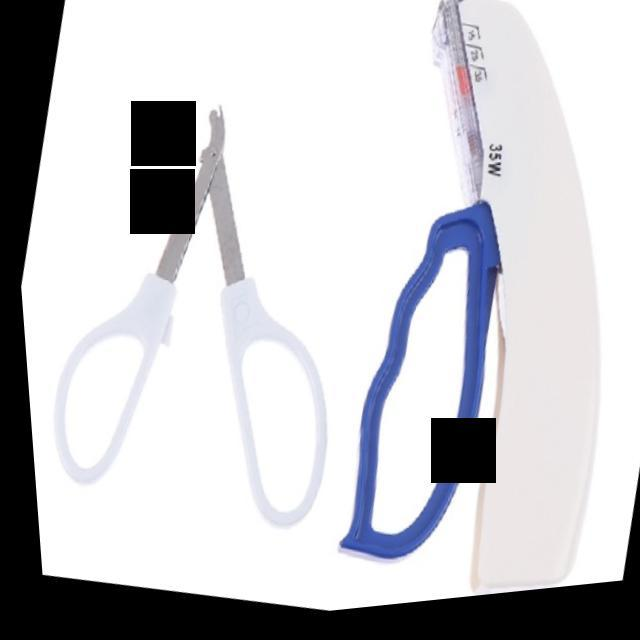Skin Stapler: (280, 0, 640, 617)
Stapler Remover: (4, 36, 405, 565)
